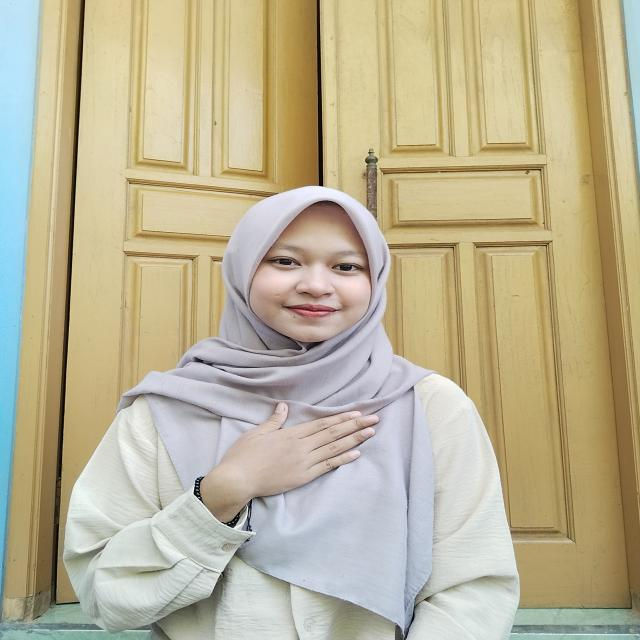tolong: (170, 396, 388, 526)
